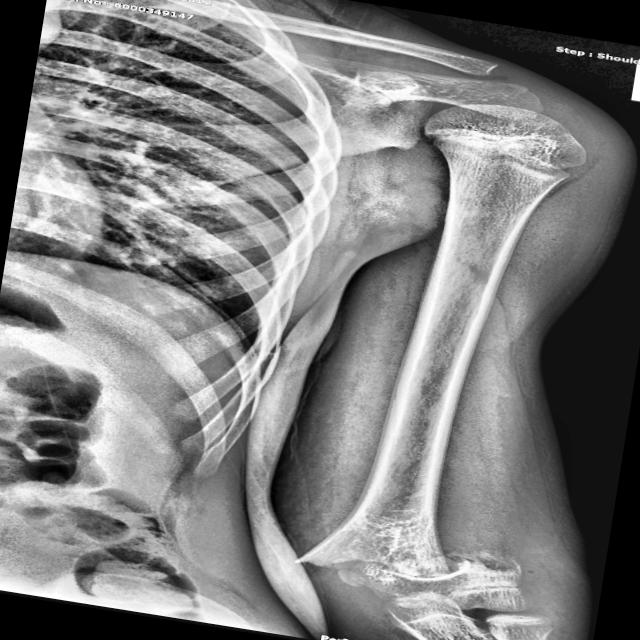Fracture: (278, 512, 482, 600)
